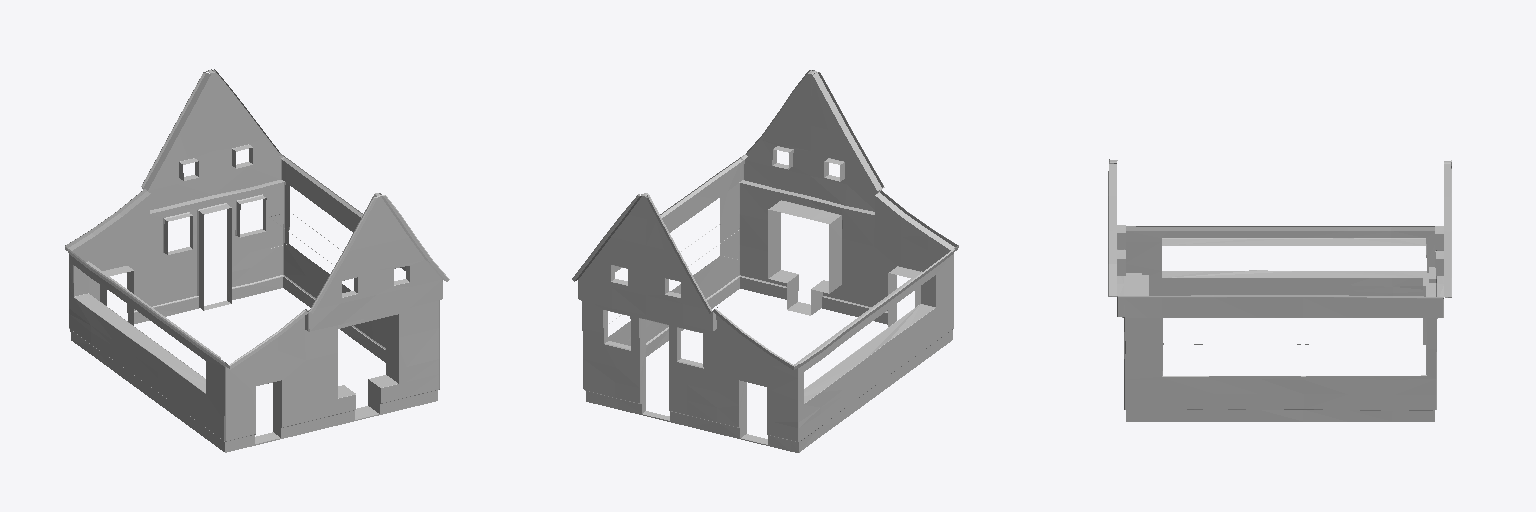
3 renders of one model, left to right at view 1: azimuth 30°, elevation 25°; view 2: azimuth 150°, elevation 25°; view 3: azimuth 270°, elevation 25°, orthographic.
Parts seen in each view (by area): view 1: house01_base; view 2: house01_base; view 3: house01_base.
Part boxes in pixels (x1,y1,x2,y2): house01_base: (65, 69, 449, 452); house01_base: (572, 70, 958, 452); house01_base: (1108, 159, 1451, 421).
Size of the model in its own units: 14.24 by 14.06 by 19.15.